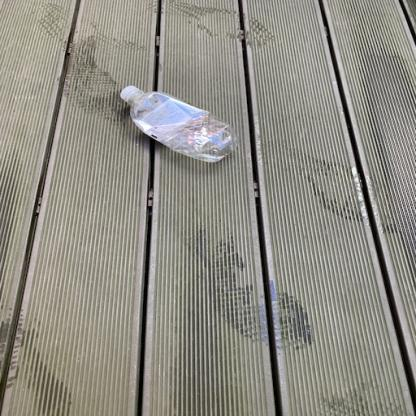trash: (119, 85, 240, 165)
